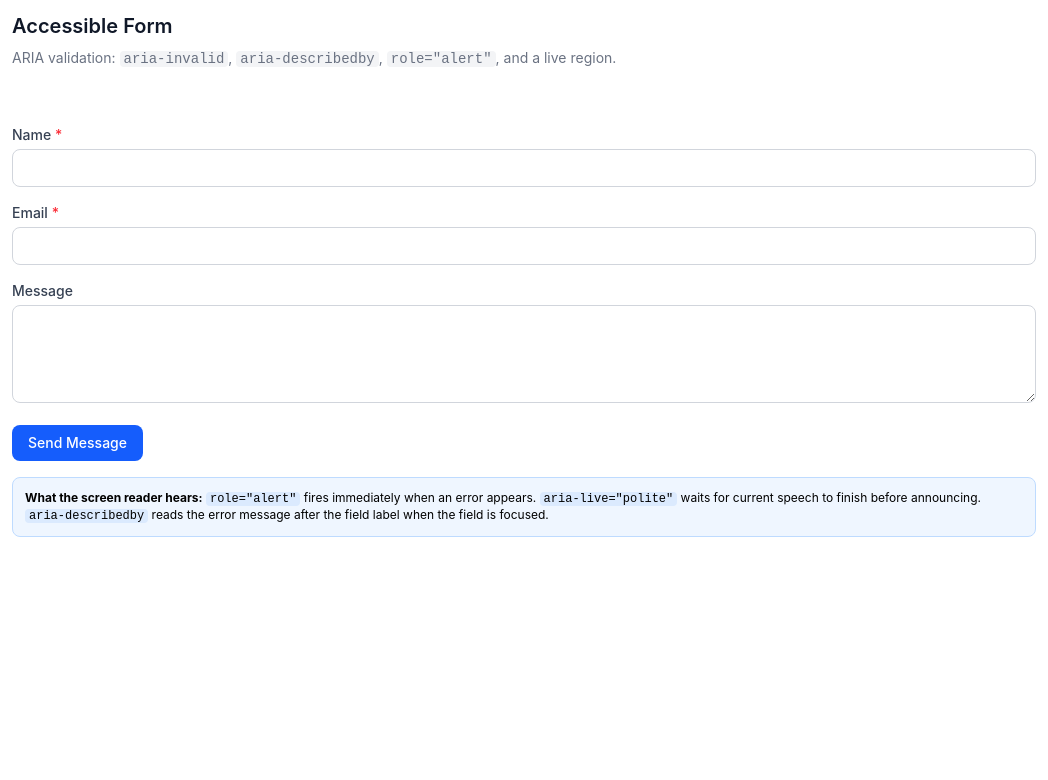
AccessibleFormSection › valid submit shows "Message sent!" in live region
In the field with test id "field-name": [524, 168] box [12, 149, 1036, 187], type "Alice"
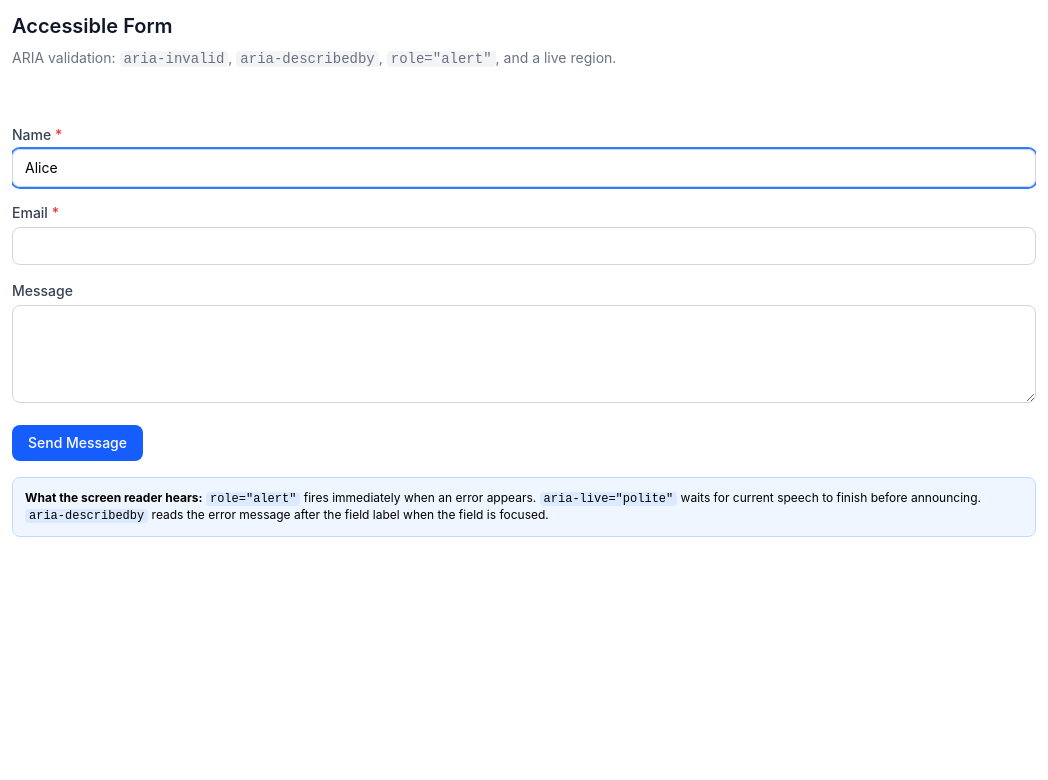
In the field with test id "field-email": [524, 246] box [12, 227, 1036, 265], type "alice@example.com"
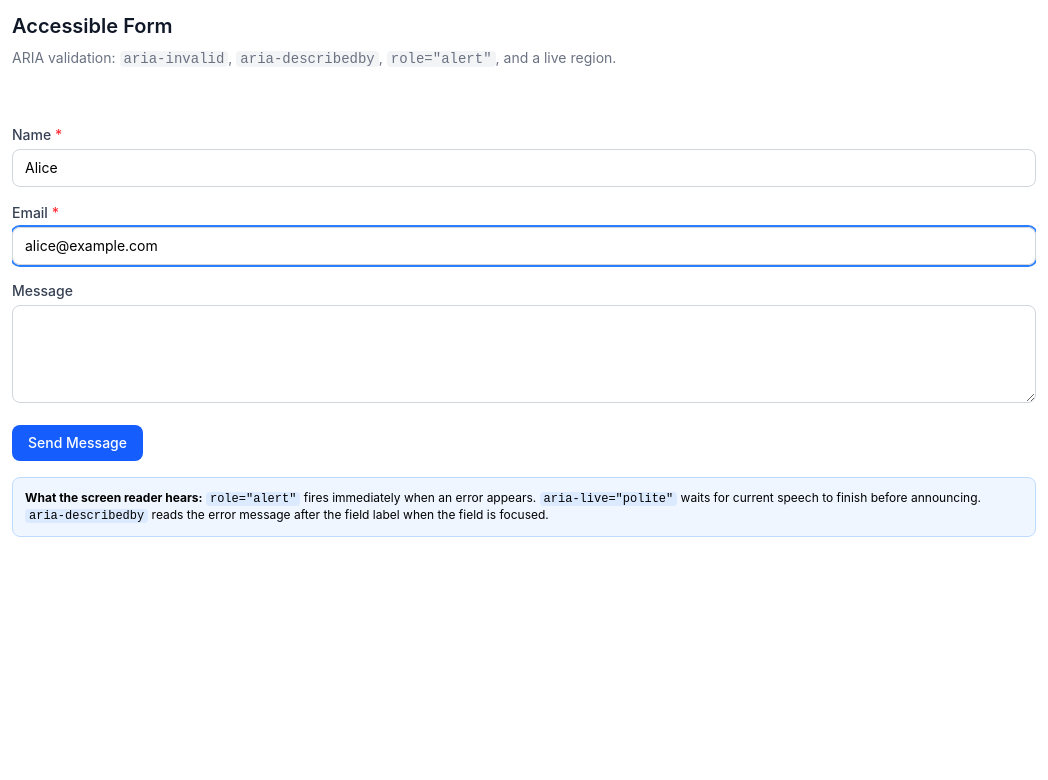
Click the button "Send Message": [78, 443] box [12, 425, 143, 461]
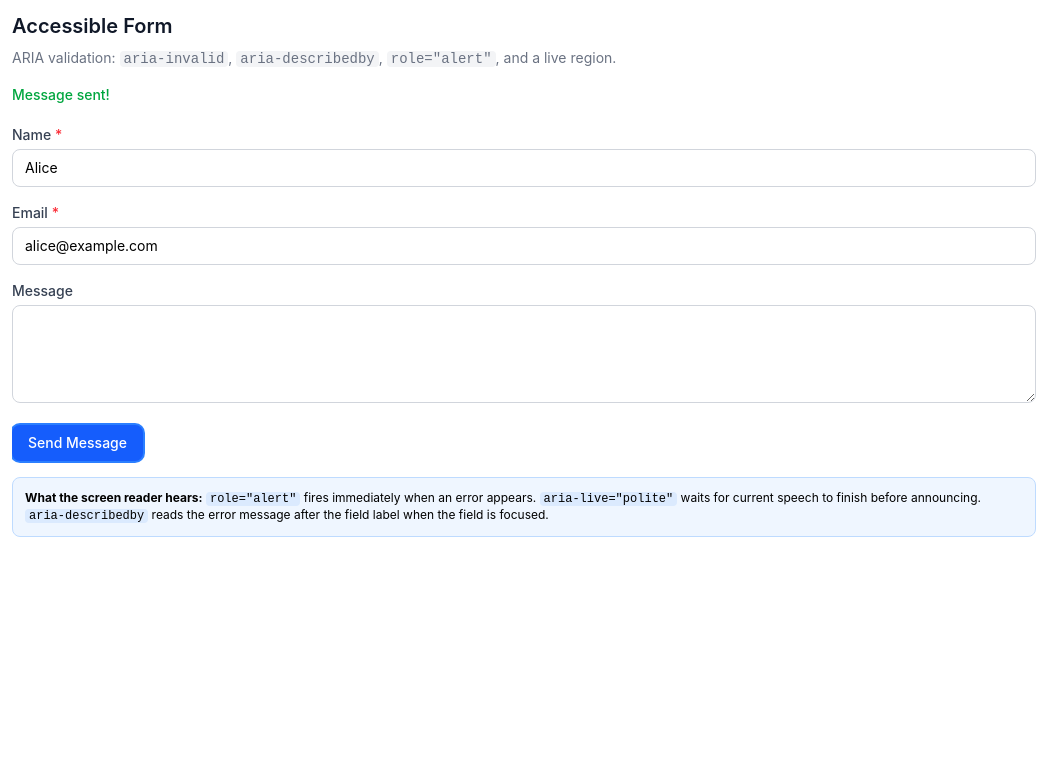
Result: the element with test id "form-live-region" reads "Message sent!" at [12, 86, 110, 103]
